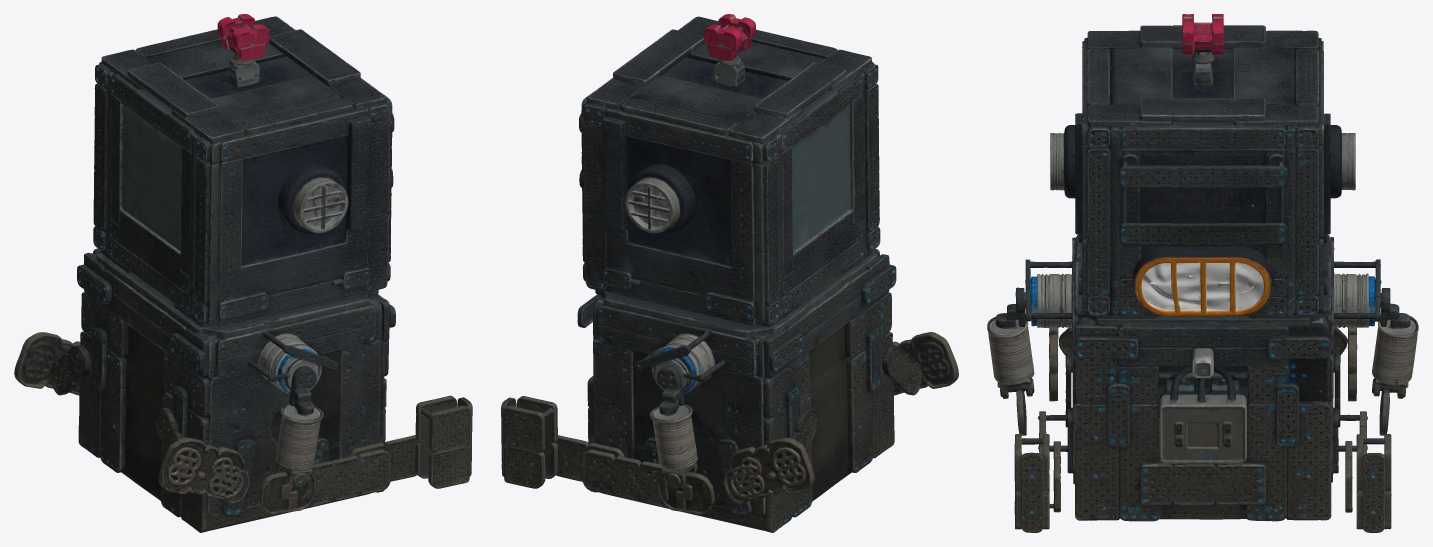
File: mno4sqi81989.glb
3 renders of one model, left to right at view 1: azimuth 30°, elevation 25°; view 2: azimuth 150°, elevation 25°; view 3: azimuth 270°, elevation 25°, orthographic. The views are drawn at different scales.
Visible parts, largest first — view 1: tripo_node_5306a32f-933d-4436-a2cf-d677bb51147d; view 2: tripo_node_5306a32f-933d-4436-a2cf-d677bb51147d; view 3: tripo_node_5306a32f-933d-4436-a2cf-d677bb51147d.
Boxes of the visible parts, x1,y1,x2,y2 form: tripo_node_5306a32f-933d-4436-a2cf-d677bb51147d: (14,14,472,532); tripo_node_5306a32f-933d-4436-a2cf-d677bb51147d: (501,14,958,532); tripo_node_5306a32f-933d-4436-a2cf-d677bb51147d: (987,14,1418,532).
Bounding box in the file's own units: 0.6946 × 0.9999 × 0.842.
Materials: 1 (1 with a texture image).
